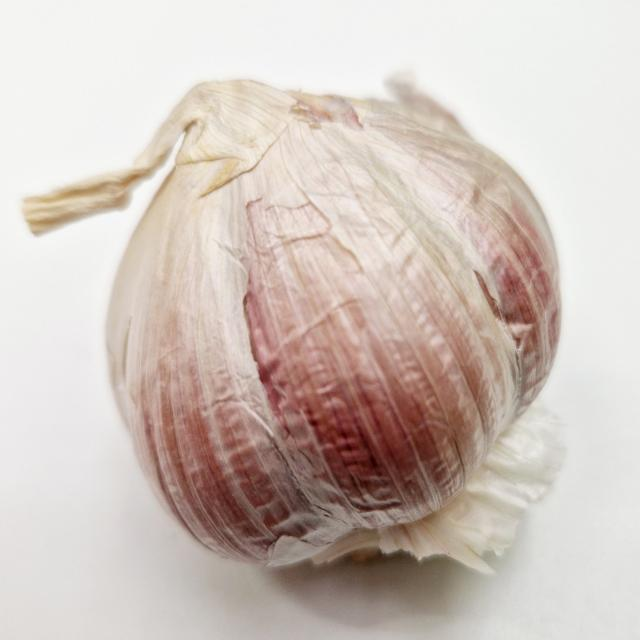garlic: (102, 84, 563, 574)
